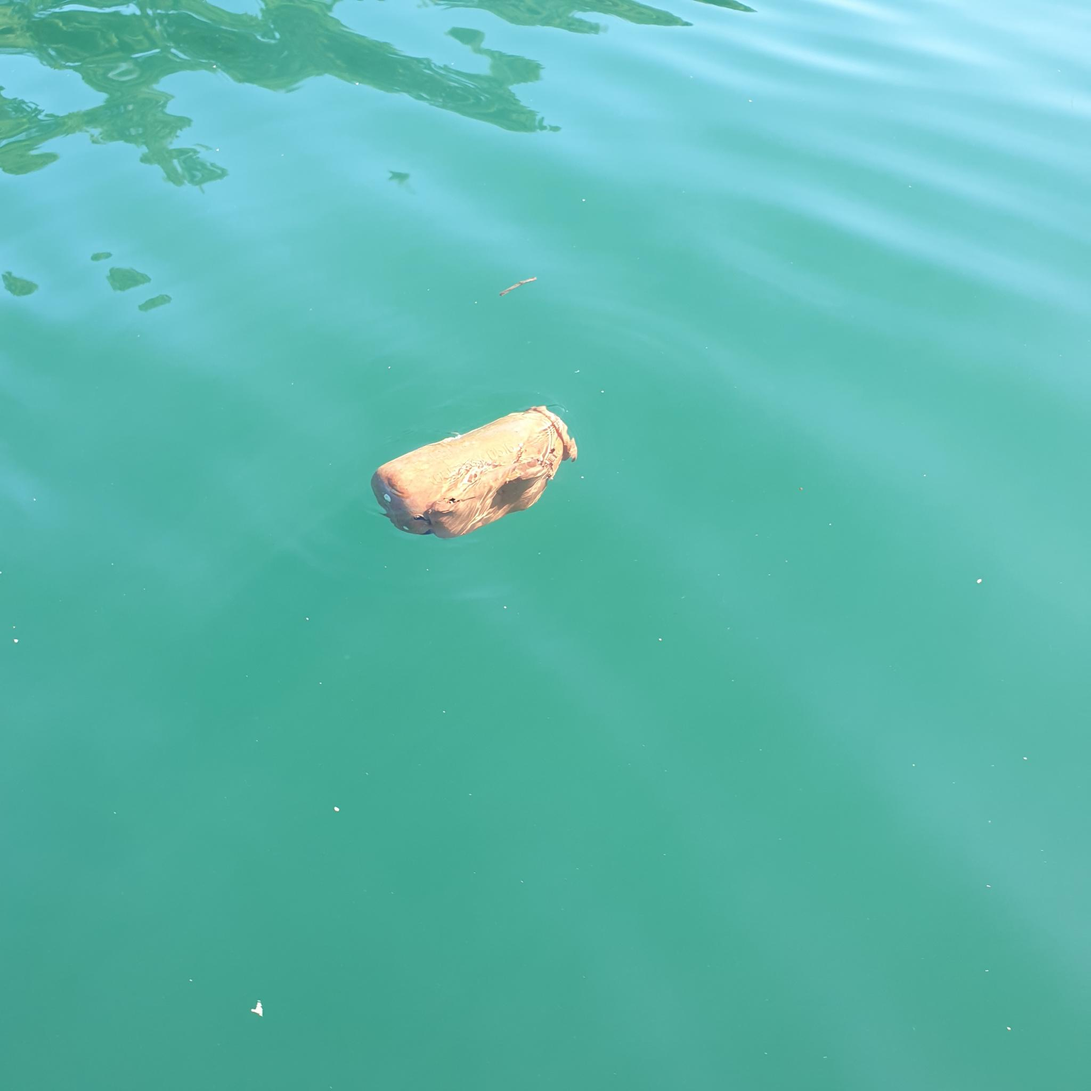sampah_terapung: (371, 405, 578, 540)
